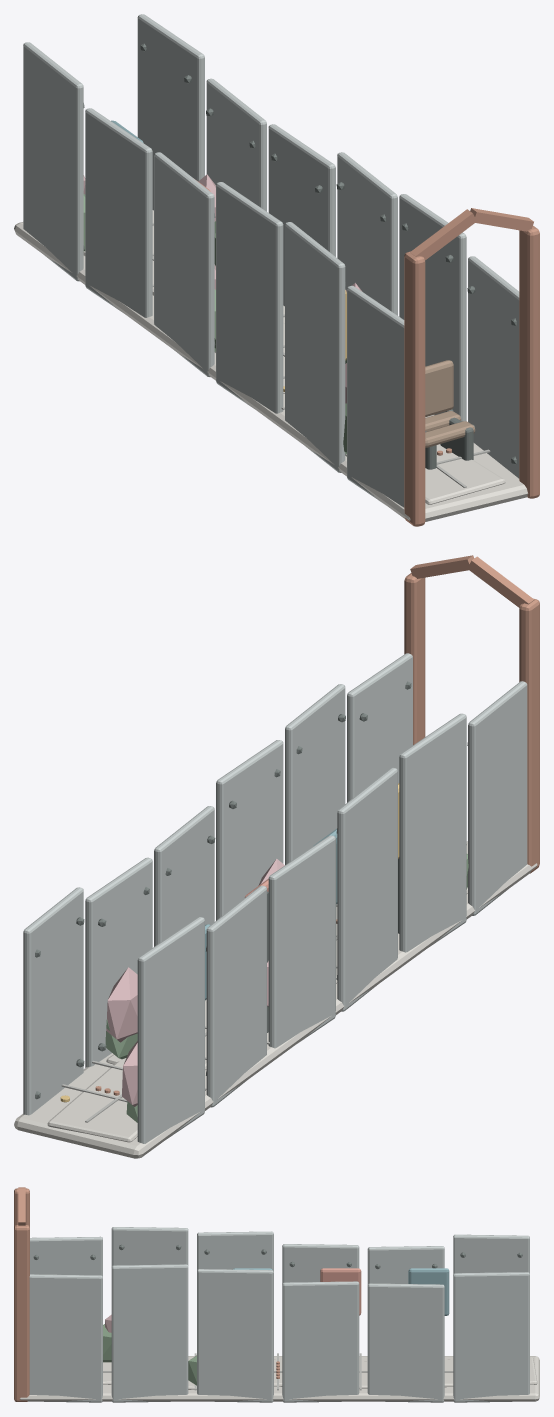
The model's file is xinhua-pocket-park.glb.
3 renders of one model, top to bottom at view 1: azimuth 30°, elevation 25°; view 2: azimuth 150°, elevation 25°; view 3: azimuth 270°, elevation 25°, orthographic. The views are drawn at different scales.
Parts seen in each view (by area): view 1: xinhua-pocket-park; view 2: xinhua-pocket-park; view 3: xinhua-pocket-park.
Part boxes in pixels (x1,y1,x2,y2): xinhua-pocket-park: (14, 14, 539, 526); xinhua-pocket-park: (14, 555, 539, 1158); xinhua-pocket-park: (14, 1187, 539, 1402).
Size of the model in its own units: 1.7 by 3.78 by 9.24.
